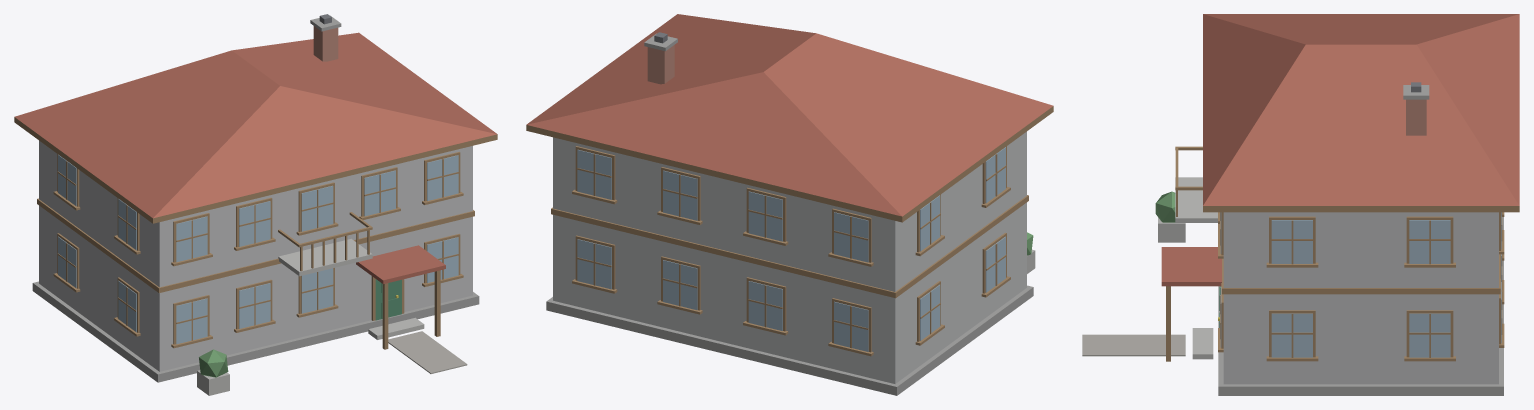
Rendered from Villa_11.glb.
The picture shows the model from 3 angles, left to right: view 1: azimuth 30°, elevation 25°; view 2: azimuth 150°, elevation 25°; view 3: azimuth 270°, elevation 25°; orthographic projection. The views are drawn at different scales.
Parts seen in each view (by area): view 1: Villa_11; view 2: Villa_11; view 3: Villa_11.
Boxes of the visible parts, x1,y1,x2,y2 form: Villa_11: (14,14,497,395); Villa_11: (526,14,1053,395); Villa_11: (1082,14,1519,395).
Bounding box in the file's own units: 13.2 × 8.8 × 12.7.
